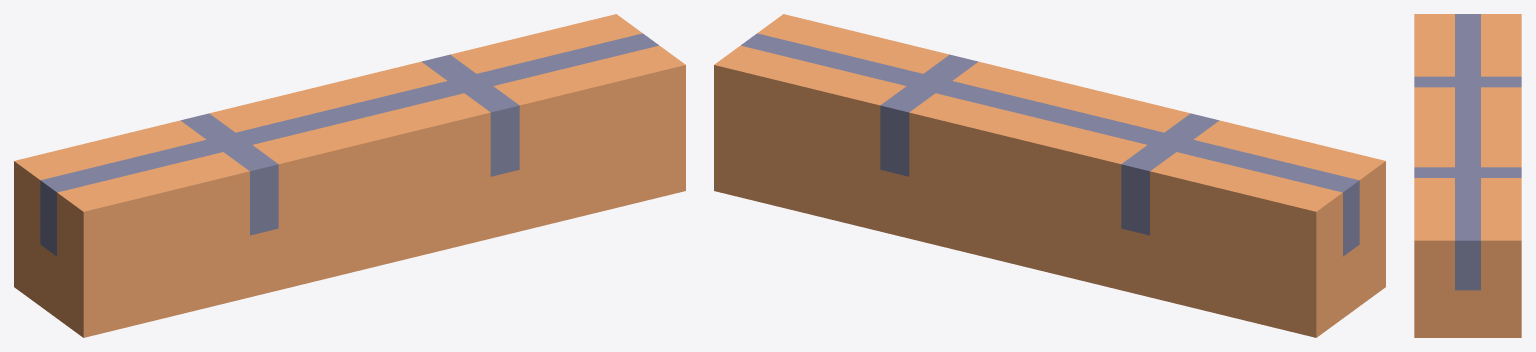
3 views of the same model, side by side, from view 1: azimuth 30°, elevation 25°; view 2: azimuth 150°, elevation 25°; view 3: azimuth 270°, elevation 25° (orthographic). The views are drawn at different scales.
Visible parts, largest first — view 1: Box5x1, Box5x1.lid.2, Box5x1.lid.1; view 2: Box5x1, Box5x1.lid.1, Box5x1.lid.2; view 3: Box5x1.lid.1, Box5x1.lid.2, Box5x1.
Boxes of the visible parts, bbox=[...] form: Box5x1: bbox=[14, 67, 685, 337]; Box5x1.lid.2: bbox=[48, 39, 685, 214]; Box5x1.lid.1: bbox=[14, 14, 650, 188]; Box5x1: bbox=[714, 67, 1385, 337]; Box5x1.lid.1: bbox=[714, 39, 1351, 214]; Box5x1.lid.2: bbox=[749, 14, 1385, 188]; Box5x1.lid.1: bbox=[1468, 14, 1521, 242]; Box5x1.lid.2: bbox=[1414, 14, 1467, 242]; Box5x1: bbox=[1414, 242, 1521, 337].
Bounding box in the file's own units: 500 × 100 × 100.
